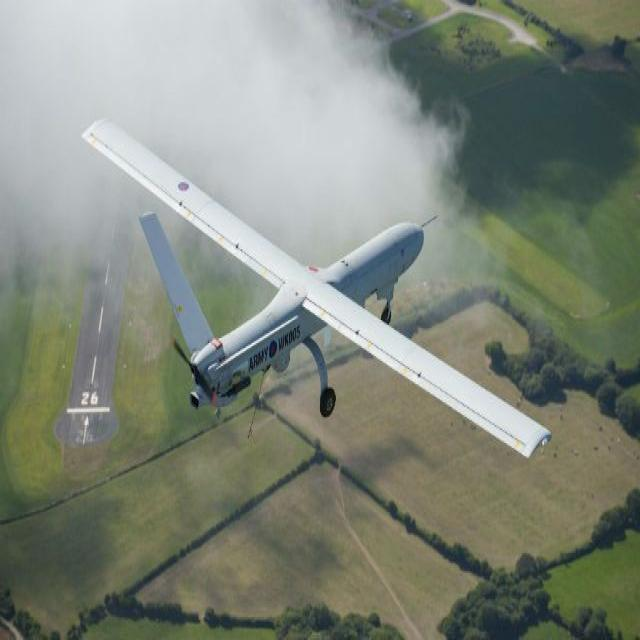iha: (79, 113, 554, 463)
